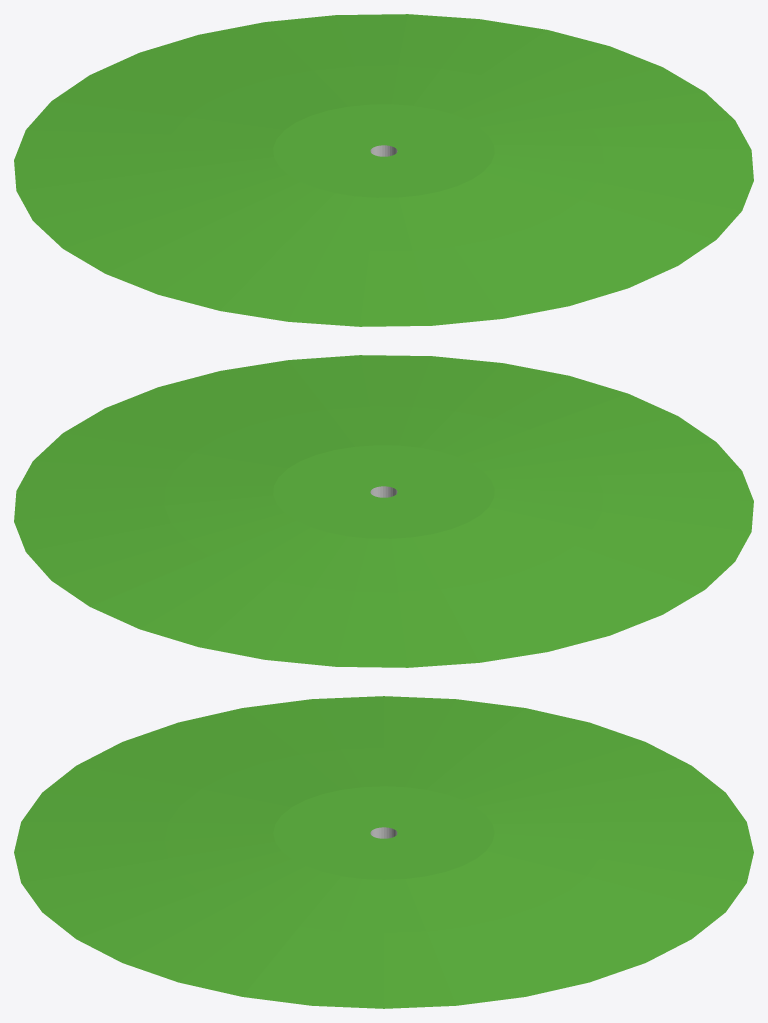
The model's file is largeGreen.fbx.
3 views of the same model, one above another, from view 1: azimuth 30°, elevation 25°; view 2: azimuth 150°, elevation 25°; view 3: azimuth 270°, elevation 25° (orthographic).
Parts seen in each view (by area): view 1: Plane; view 2: Plane; view 3: Plane.
Part boxes in pixels (bbox=[...]): Plane: bbox=[14, 14, 753, 326]; Plane: bbox=[14, 355, 753, 667]; Plane: bbox=[14, 696, 753, 1008].
Size of the model in its own units: 10942 by 316 by 10942.
